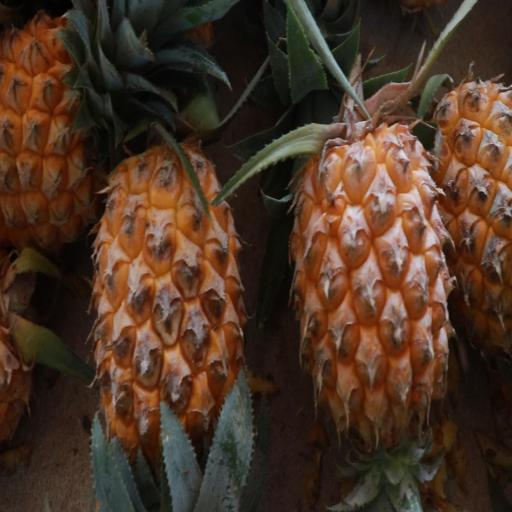Pineapple - v8 v1: (289, 113, 459, 512), (84, 122, 253, 512), (0, 0, 172, 265)
